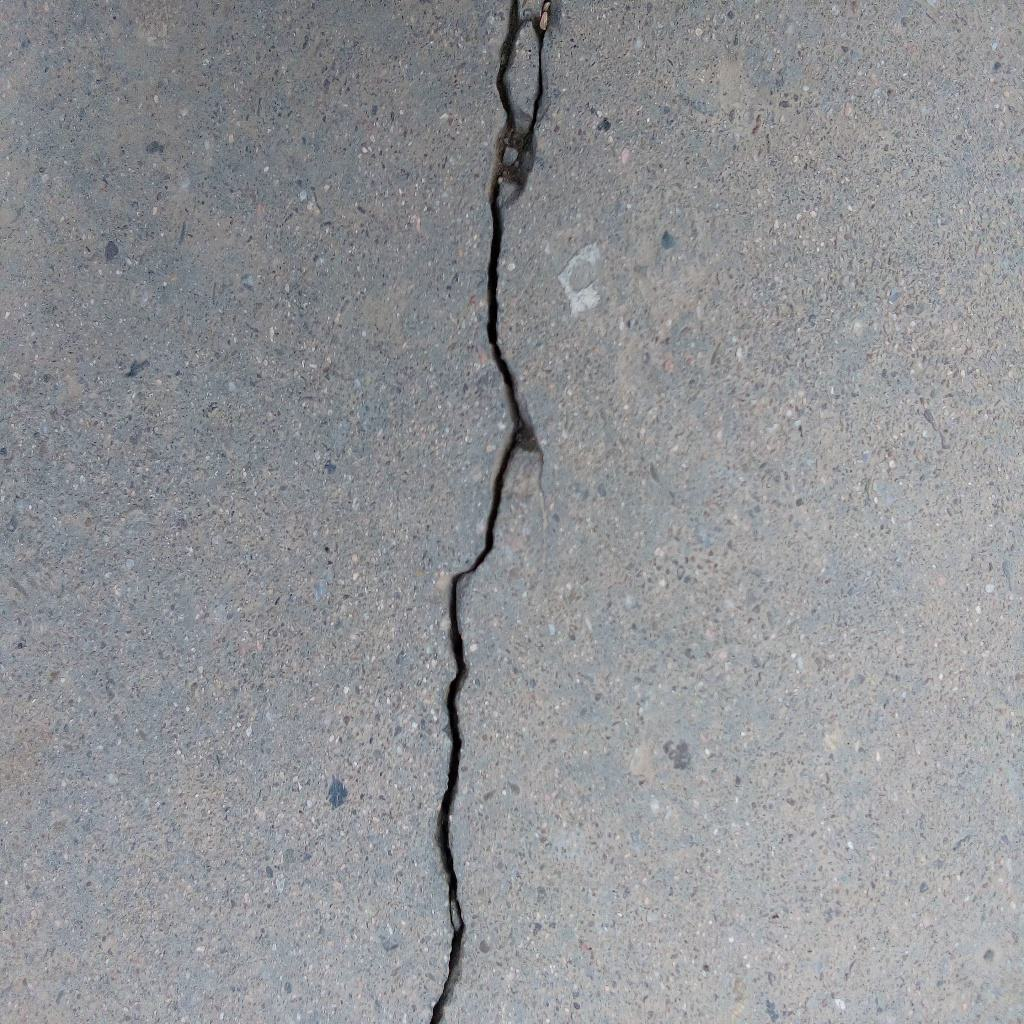Crack: (428, 1, 552, 1024)
